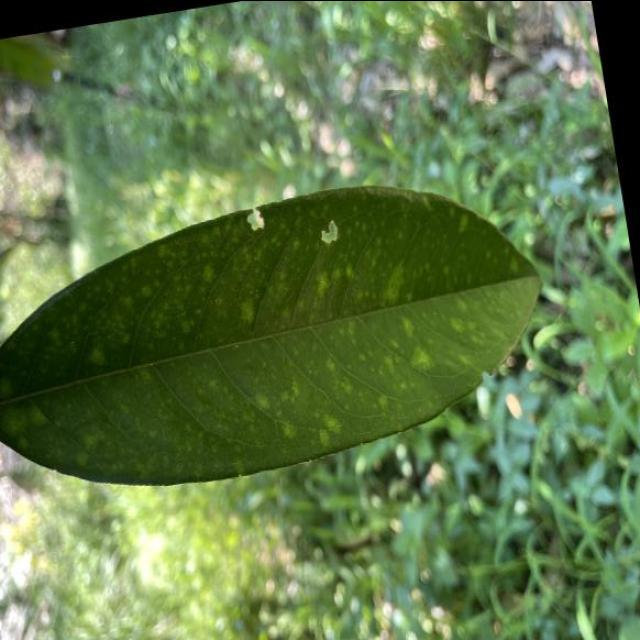Leaf Spot: (0, 148, 578, 534)
